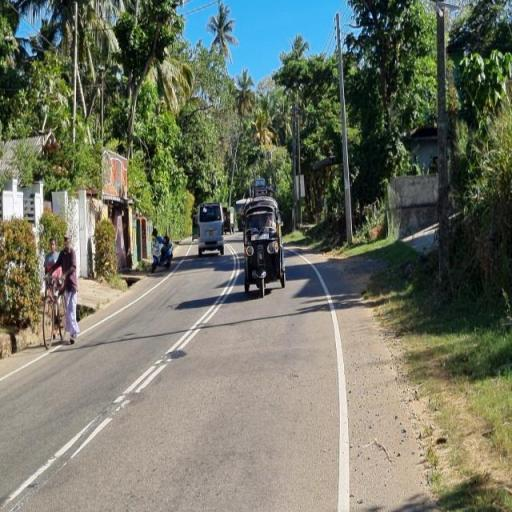double_white_line: (112, 245, 239, 408)
